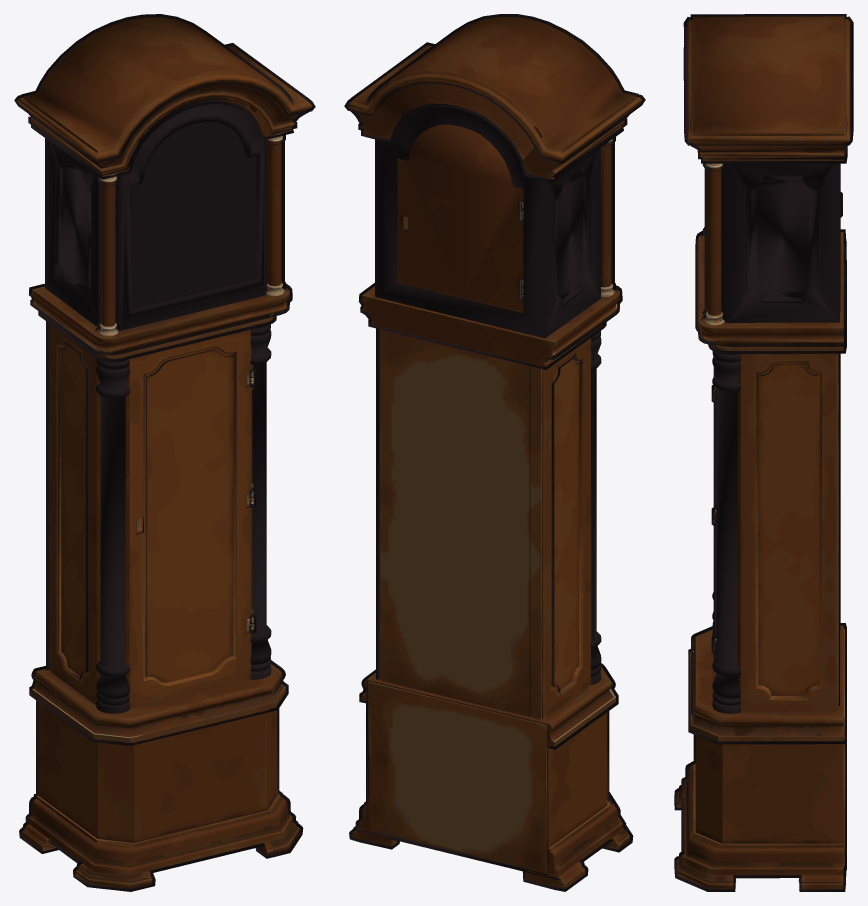
The model's file is SM_Int_GrandfatherClock.fbx.
The picture shows the model from 3 angles, left to right: view 1: azimuth 30°, elevation 25°; view 2: azimuth 150°, elevation 25°; view 3: azimuth 270°, elevation 25°; orthographic projection. The views are drawn at different scales.
Visible parts, largest first — view 1: SM_Int_GrandfatherClock; view 2: SM_Int_GrandfatherClock; view 3: SM_Int_GrandfatherClock.
Boxes of the visible parts, x1,y1,x2,y2 form: SM_Int_GrandfatherClock: (14,14,315,891); SM_Int_GrandfatherClock: (344,14,645,891); SM_Int_GrandfatherClock: (674,14,853,891).
Size of what is drawn, in the model's own units: 0.6107 by 2.11 by 0.4229.
